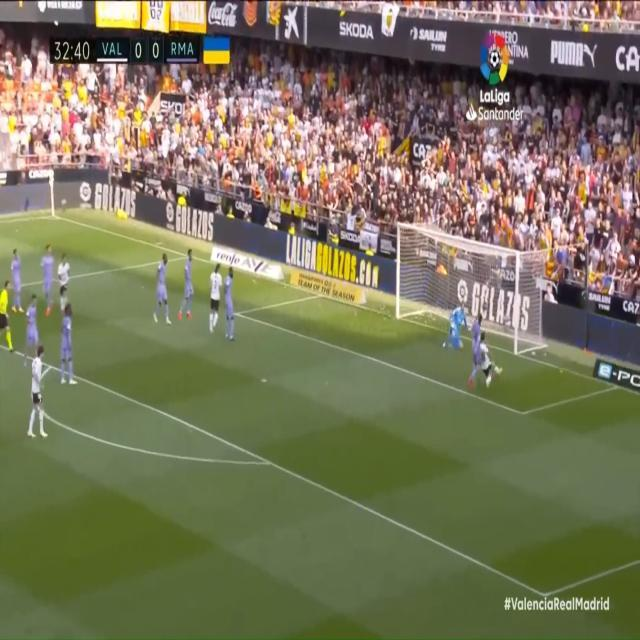ball: (494, 362, 500, 374)
goalkeeper: (442, 295, 469, 357)
player: (27, 343, 53, 443), (149, 254, 172, 340), (57, 304, 76, 390), (179, 243, 196, 330), (23, 290, 42, 366), (7, 251, 28, 317), (38, 243, 56, 319), (209, 251, 224, 340), (477, 332, 496, 394), (224, 269, 238, 352), (468, 308, 482, 378), (57, 249, 72, 302), (58, 286, 71, 329)
referee: (0, 279, 18, 363)
